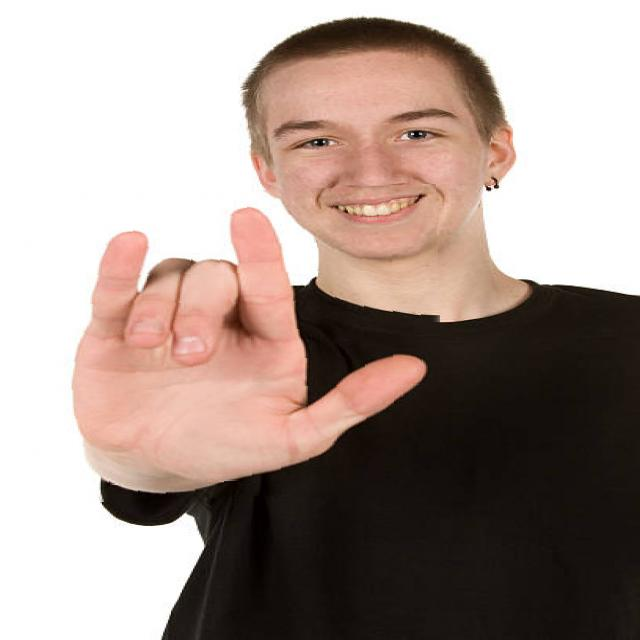I Love You: (27, 188, 443, 500)
